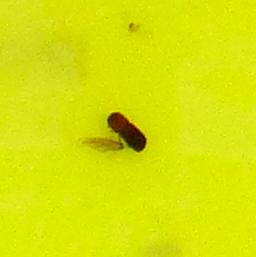Coleoptera: (100, 100, 156, 157)
